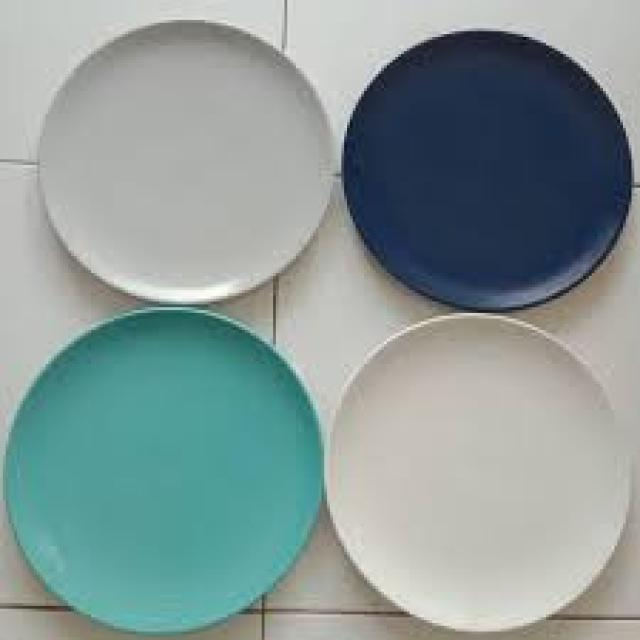Plate: (2, 306, 320, 640), (335, 318, 640, 634), (340, 16, 637, 313), (39, 14, 334, 308)
